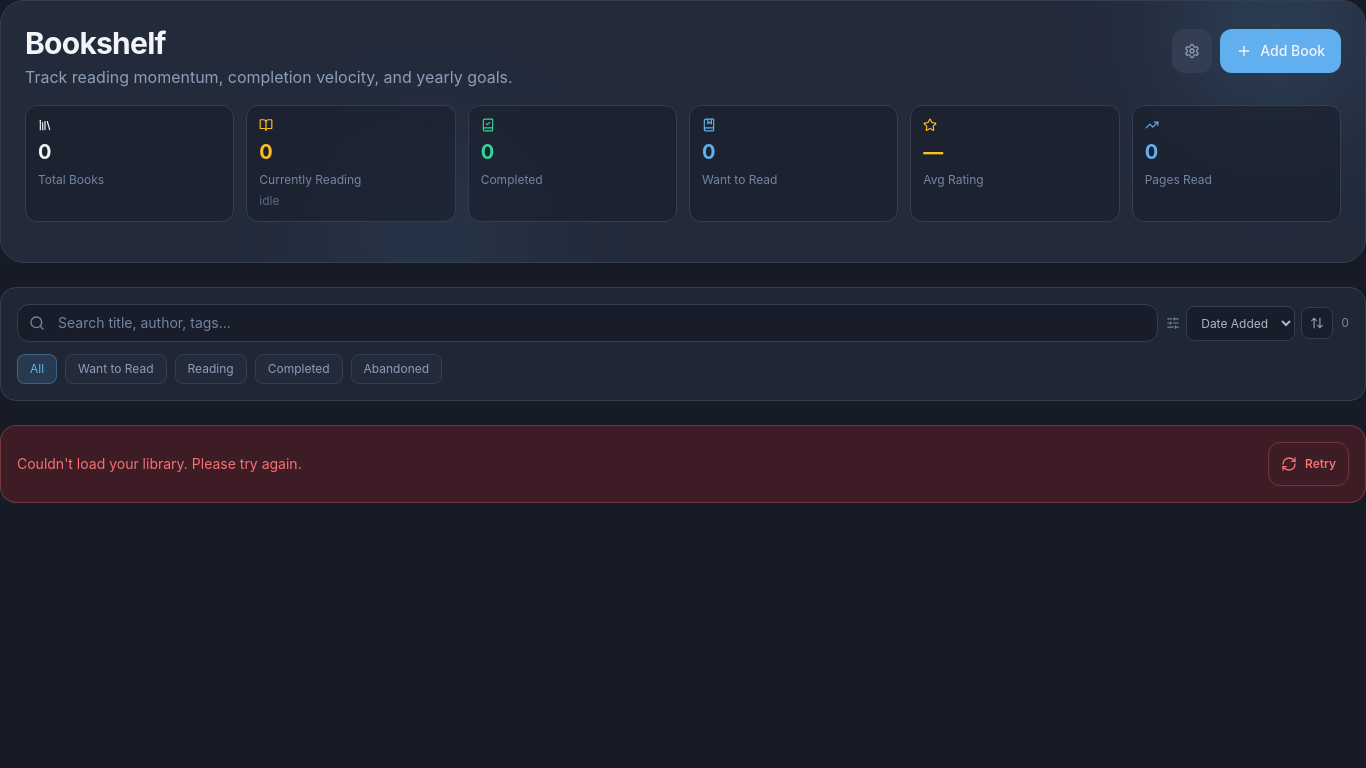
BookshelfAdminView › shows a retryable error instead of an empty library when loading fails
The image size is (1366, 768).
Expected: the message "Couldn't load your library. Please try again. Retry" is shown, [0,425,1365,503]
Click the button with aria-label "Retry loading library". click: {"x": 1308, "y": 464}
box: [1268,442,1349,486]
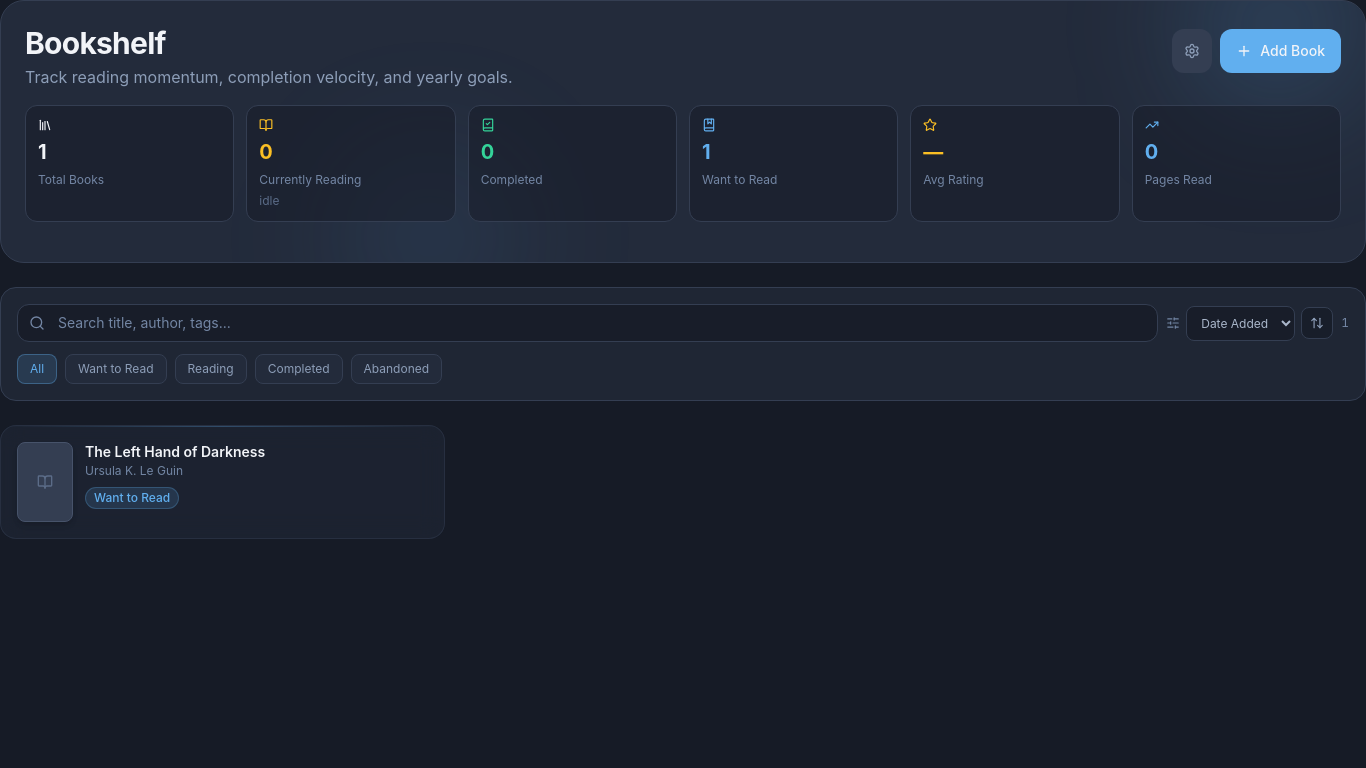
Result: the text "The Left Hand of Darkness" is shown at [85,443,265,460]
